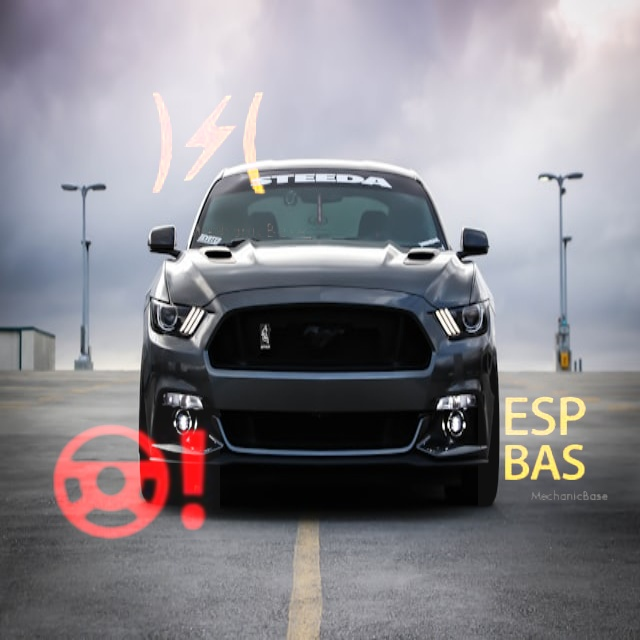symbol: (104, 39, 313, 248), (39, 392, 220, 573), (478, 372, 613, 507)
